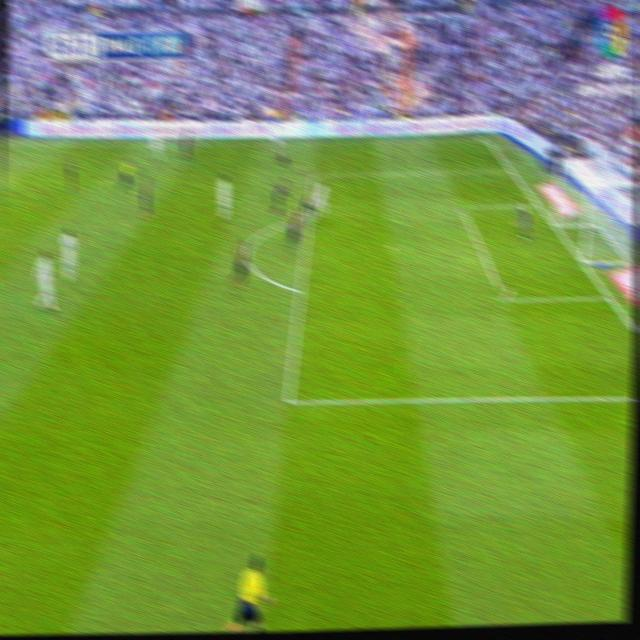bigarea_bottom_inner: (496, 283, 511, 312)
bigarea_top_outter: (504, 162, 513, 175)
bottom_arc_area_intersection: (602, 285, 614, 306)
corner: (478, 132, 489, 144)
smallarea_bottom_inner: (496, 283, 511, 312)
smallarea_top_inner: (457, 199, 466, 214)
smallarea_top_outter: (531, 195, 541, 211)
